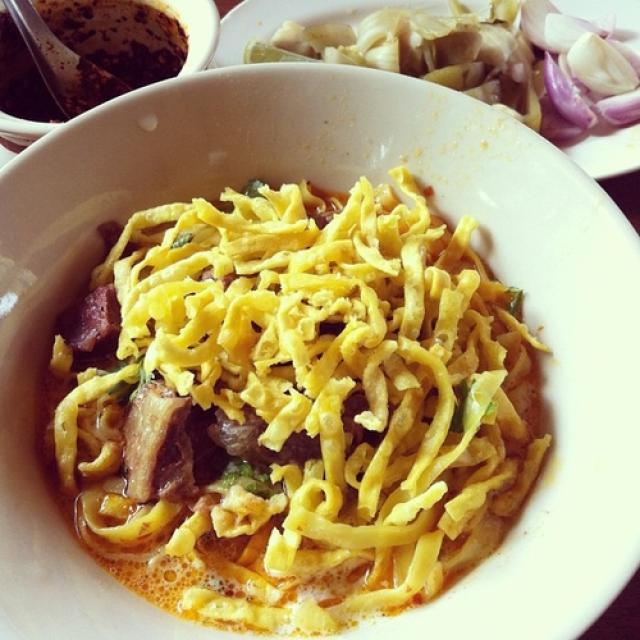面条主食: (29, 173, 562, 628)
